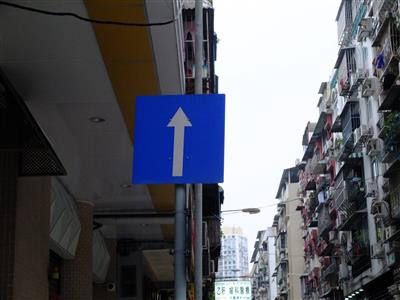oneway: (126, 86, 233, 191)
